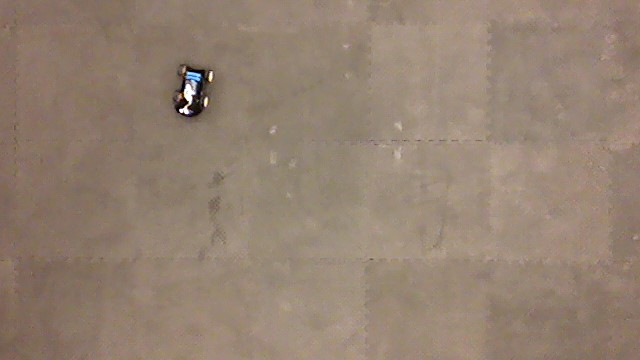Agent: (172, 61, 216, 119)
